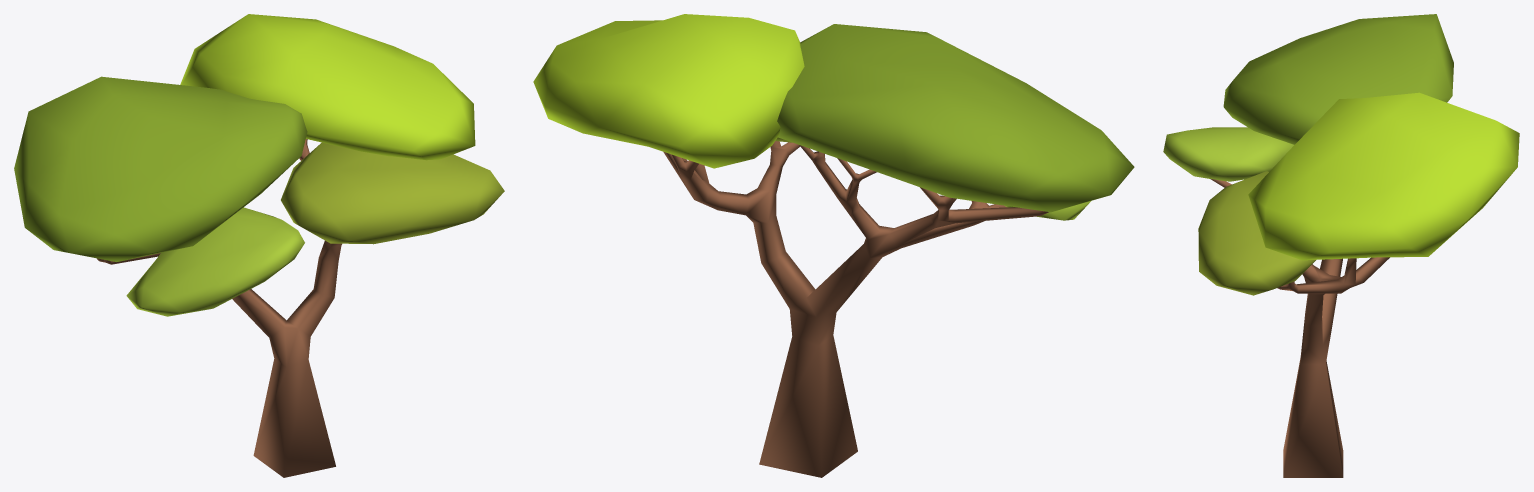
The model's file is Acacia_Green_2.fbx.
The picture shows the model from 3 angles, left to right: view 1: azimuth 30°, elevation 25°; view 2: azimuth 150°, elevation 25°; view 3: azimuth 270°, elevation 25°; orthographic projection. The views are drawn at different scales.
Visible parts, largest first — view 1: Icosphere_022, Icosphere_018, Icosphere_016, Cube_125, Icosphere_017; view 2: Icosphere_022, Icosphere_018, Cube_125; view 3: Icosphere_018, Icosphere_022, Cube_125, Icosphere_016, Icosphere_017.
Boxes of the visible parts, x1,y1,x2,y2 form: Icosphere_022: [14, 76, 307, 261]; Icosphere_018: [180, 14, 475, 160]; Icosphere_016: [281, 142, 504, 244]; Cube_125: [97, 139, 341, 477]; Icosphere_017: [126, 207, 304, 316]; Icosphere_022: [777, 24, 1134, 212]; Icosphere_018: [533, 14, 804, 168]; Cube_125: [663, 141, 1048, 477]; Icosphere_018: [1248, 92, 1519, 260]; Icosphere_022: [1223, 14, 1453, 144]; Cube_125: [1210, 178, 1389, 477]; Icosphere_016: [1198, 171, 1315, 295]; Icosphere_017: [1163, 127, 1293, 181].
Size of the model in its own units: 858 by 708 by 595.
